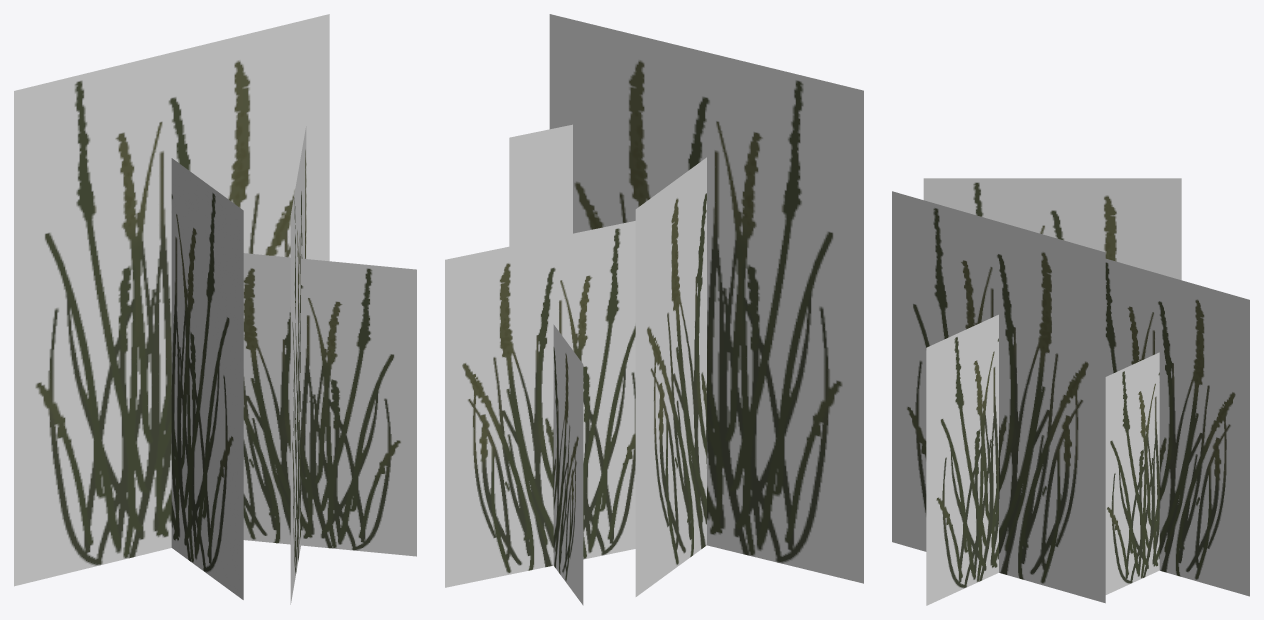
Rendered from SM_Grass1.fbx.
The picture shows the model from 3 angles, left to right: view 1: azimuth 30°, elevation 25°; view 2: azimuth 150°, elevation 25°; view 3: azimuth 270°, elevation 25°; orthographic projection. The views are drawn at different scales.
Parts seen in each view (by area): view 1: SM_Grass1; view 2: SM_Grass1; view 3: SM_Grass1.
Boxes of the visible parts, x1,y1,x2,y2 form: SM_Grass1: (14, 14, 416, 604); SM_Grass1: (445, 14, 863, 605); SM_Grass1: (892, 178, 1249, 605).
Size of the model in its own units: 21.09 by 30 by 21.81.
